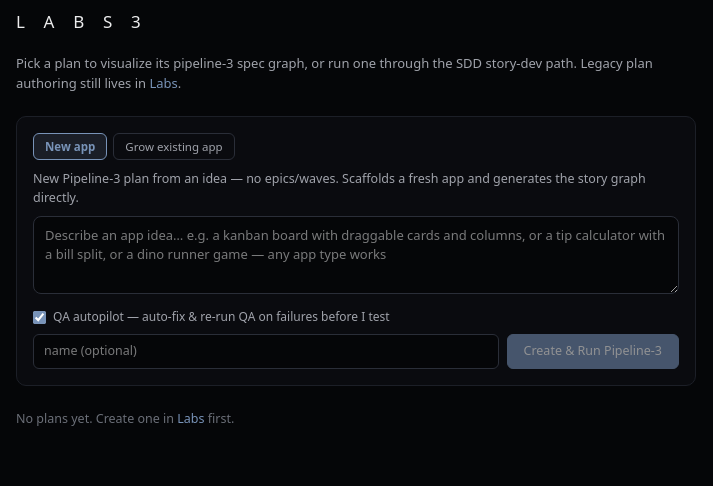
Labs3Launcher — Grow existing app mode › reveals an app selector populated from useApps in grow mode
Click the button "Grow existing app" at (174, 147), box [113,133,235,160]
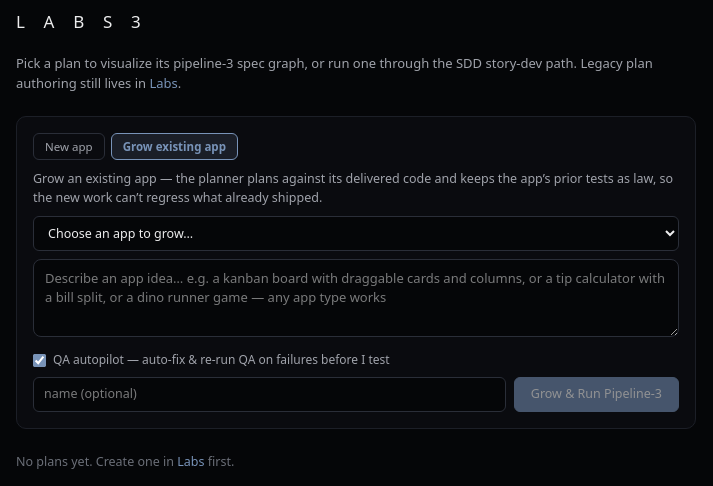
Now the dropdown named "App to grow" is shown, box [33,216,679,251]
